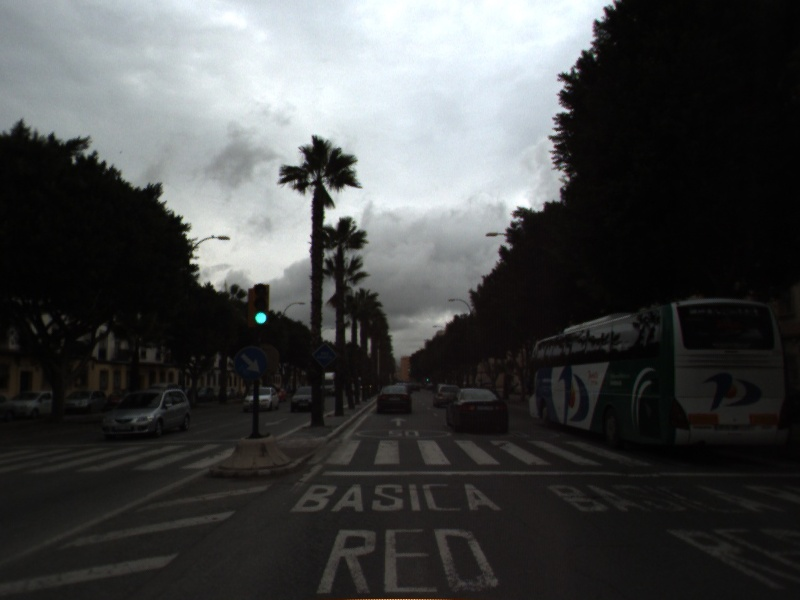STRAIGHT: (388, 415, 409, 428)
